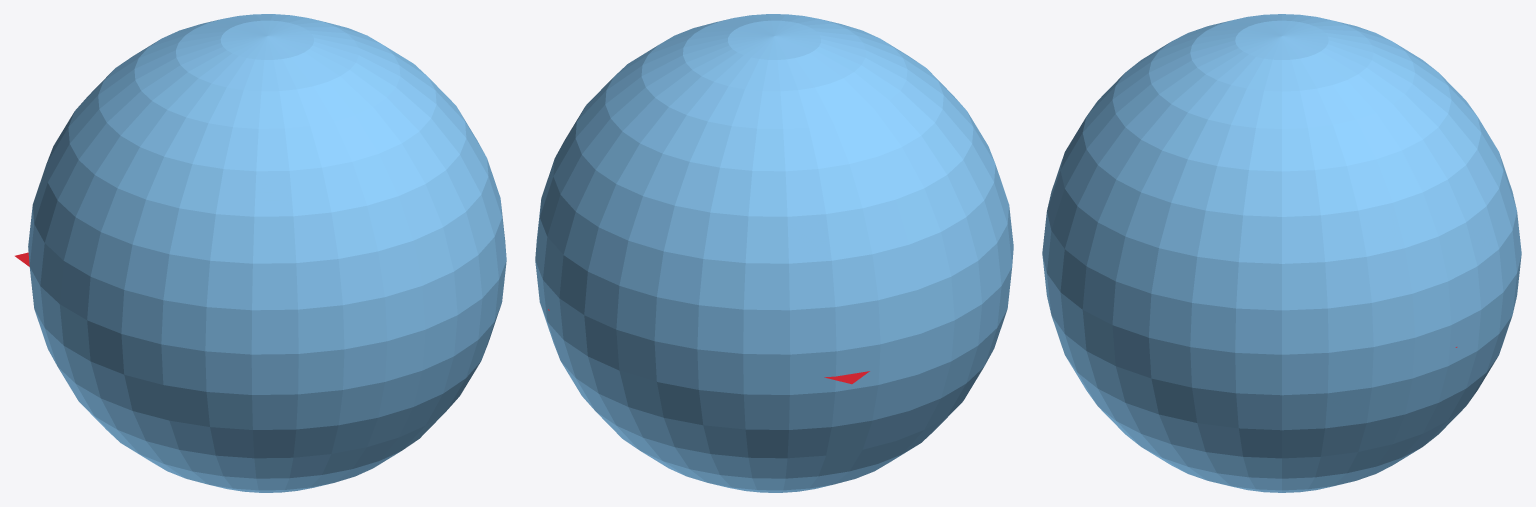
The model's file is test-zone2.glb.
The picture shows the model from 3 angles, left to right: view 1: azimuth 30°, elevation 25°; view 2: azimuth 150°, elevation 25°; view 3: azimuth 270°, elevation 25°; orthographic projection.
Parts seen in each view (by area): view 1: SkyBox; view 2: SkyBox; view 3: SkyBox.
Part boxes in pixels (left/top/right/bottom): SkyBox: left=28, top=14, right=506, bottom=492; SkyBox: left=535, top=14, right=1013, bottom=492; SkyBox: left=1042, top=14, right=1521, bottom=492.
Size of the model in its own units: 600 by 600 by 600.
Materials: 14 (13 with a texture image).
